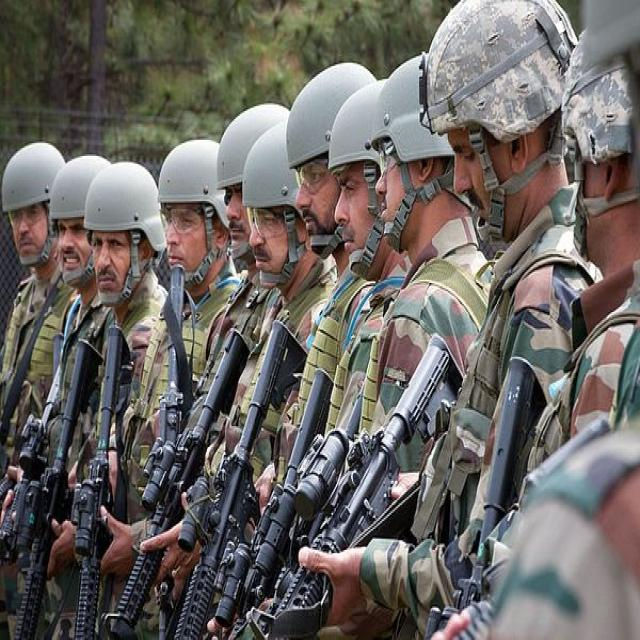Weapon: (312, 314, 480, 618), (180, 312, 316, 640), (232, 351, 364, 628), (114, 272, 205, 640), (0, 306, 90, 638), (70, 318, 136, 640)
